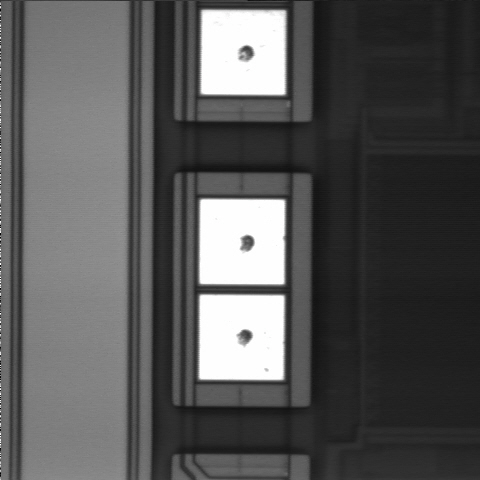pad: (200, 199, 285, 284), (199, 295, 284, 380), (201, 10, 285, 95)
